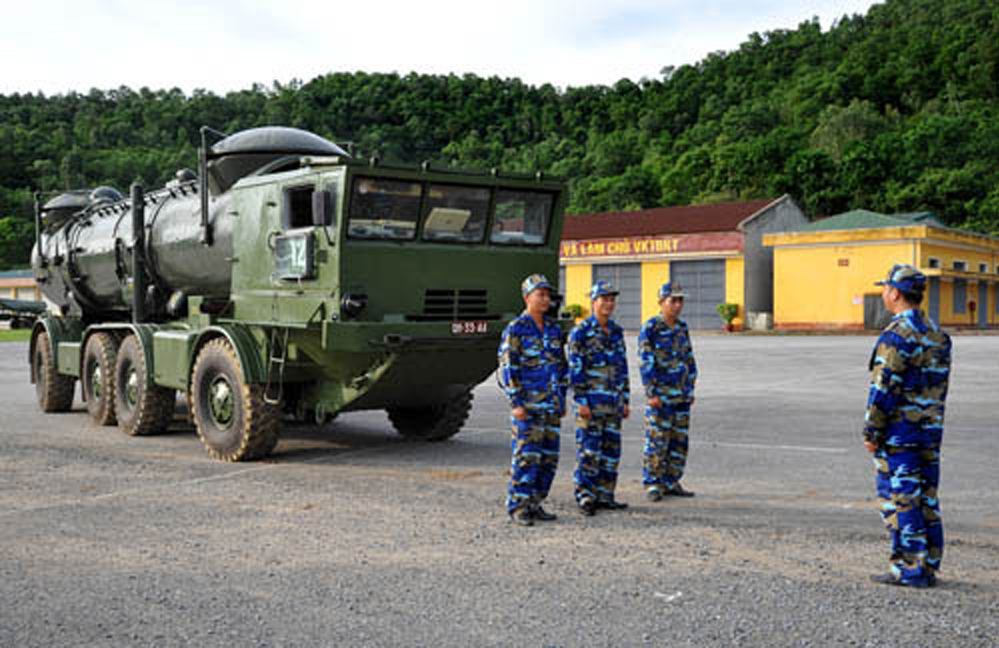plate: (451, 317, 488, 336)
